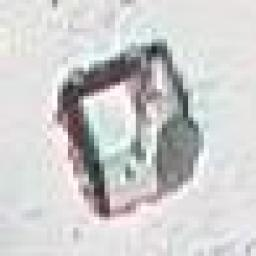crystals: (56, 39, 208, 224)
